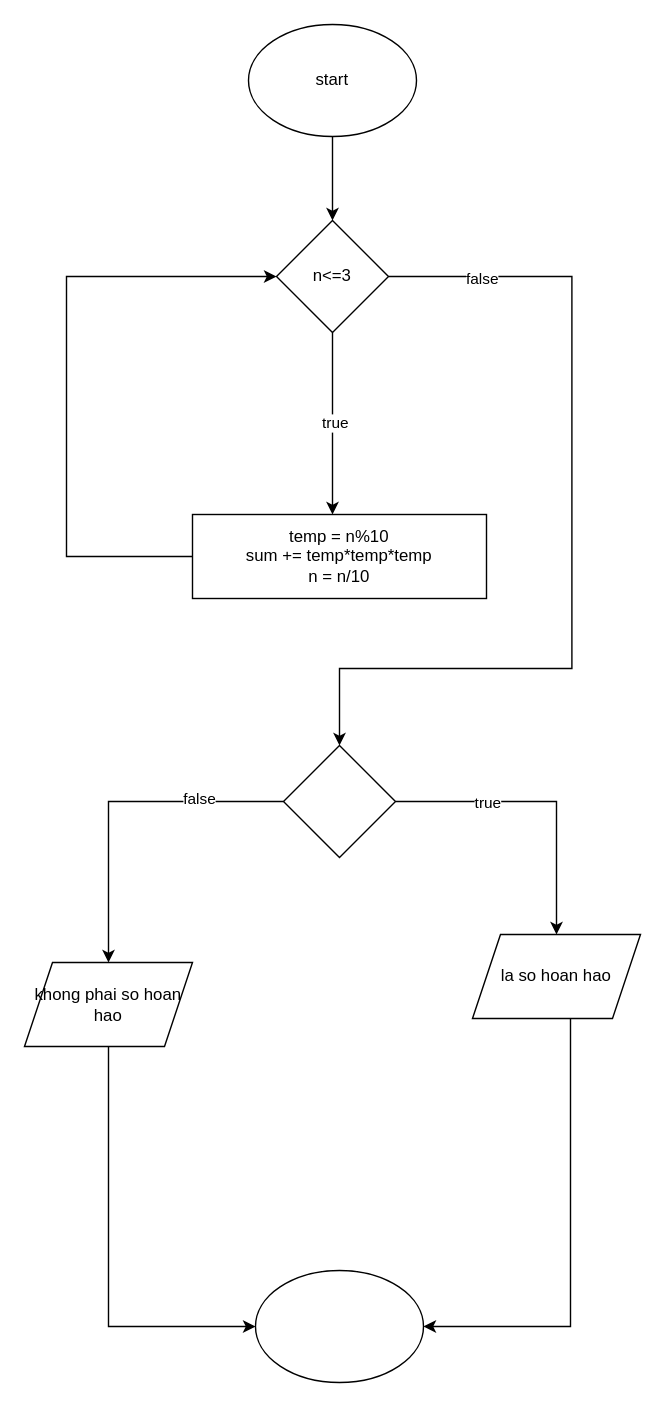
This 665x1407 diagram has some shape labels left out. The centre of each missing label's shape, as x and y in pixels:
end: the point at 339,1325
i == sum: the point at 339,801
